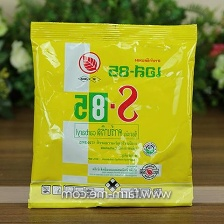insecticide: (22, 17, 202, 212)
